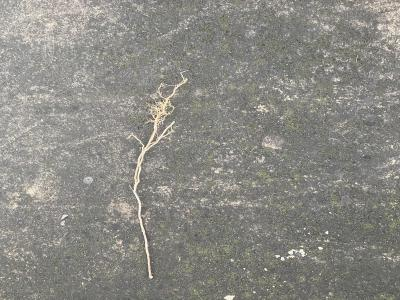Root: (127, 71, 187, 278)
